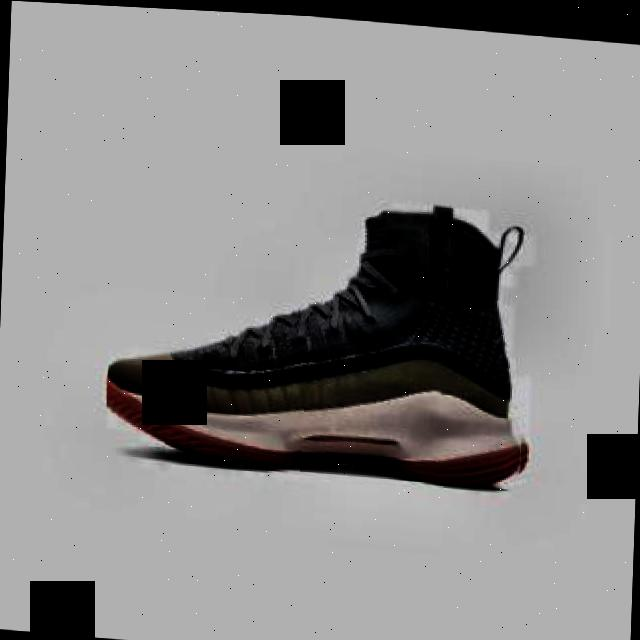shoe: (104, 177, 536, 485)
